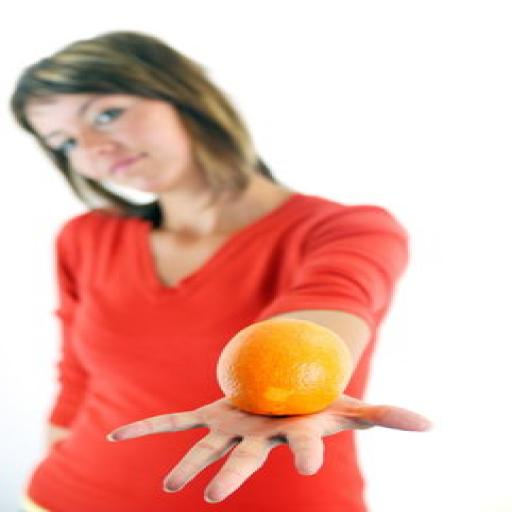orange: (217, 319, 352, 415)
